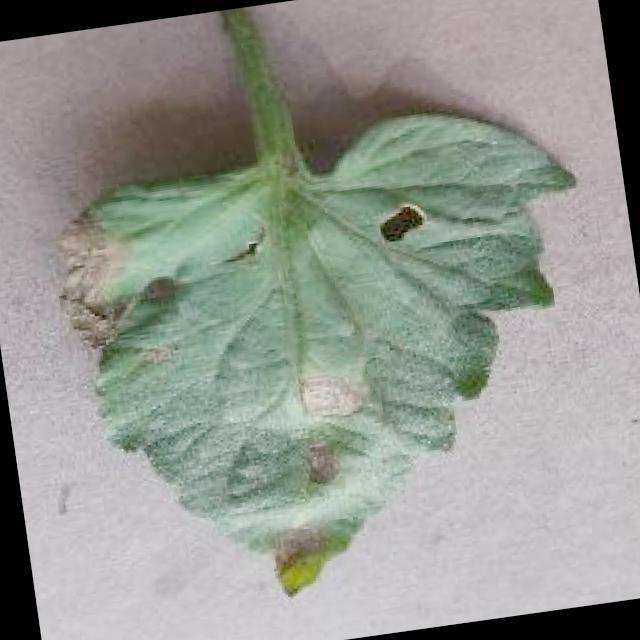Tomato Early blight leaf: (41, 90, 634, 628)
